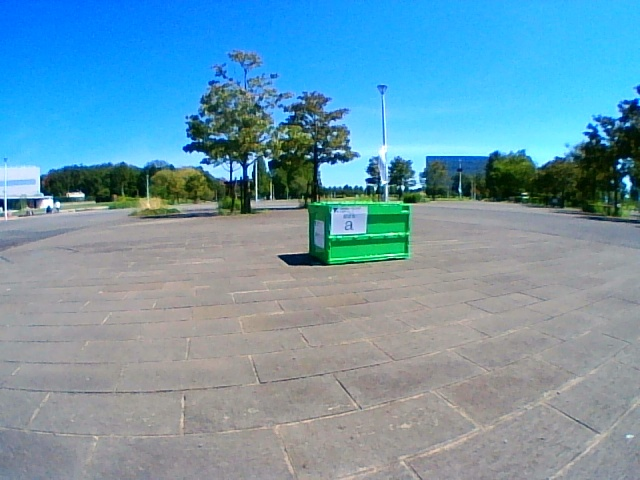green_box: (308, 201, 411, 264)
tag_a: (331, 208, 365, 233)
